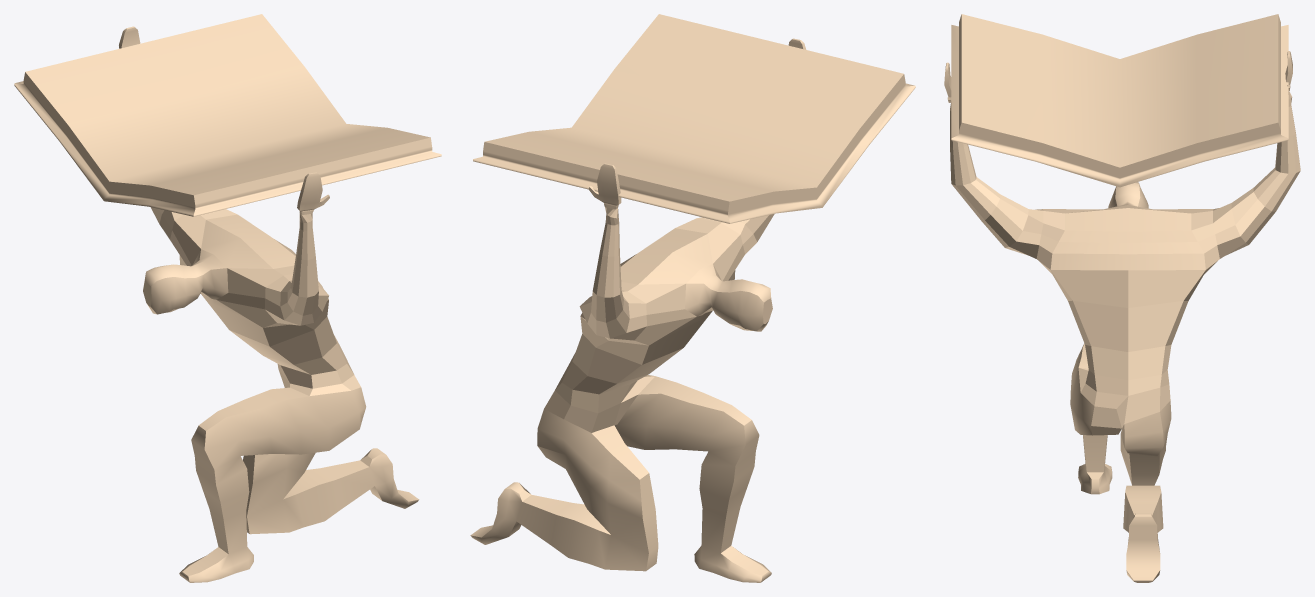
Rendered from scholar_statue.fbx.
3 renders of one model, left to right at view 1: azimuth 30°, elevation 25°; view 2: azimuth 150°, elevation 25°; view 3: azimuth 270°, elevation 25°, orthographic. The views are drawn at different scales.
Parts seen in each view (by area): view 1: pCube12, pCube11; view 2: pCube11, pCube12; view 3: pCube11, pCube12.
Boxes of the visible parts, <box> form: pCube12: <box>14,14,441,216</box>; pCube11: <box>119,26,419,582</box>; pCube11: <box>470,38,806,582</box>; pCube12: <box>473,14,915,223</box>; pCube11: <box>944,51,1300,582</box>; pCube12: <box>951,14,1288,187</box>.
Bounding box in the file's own units: 7.08 × 9.81 × 7.21.
